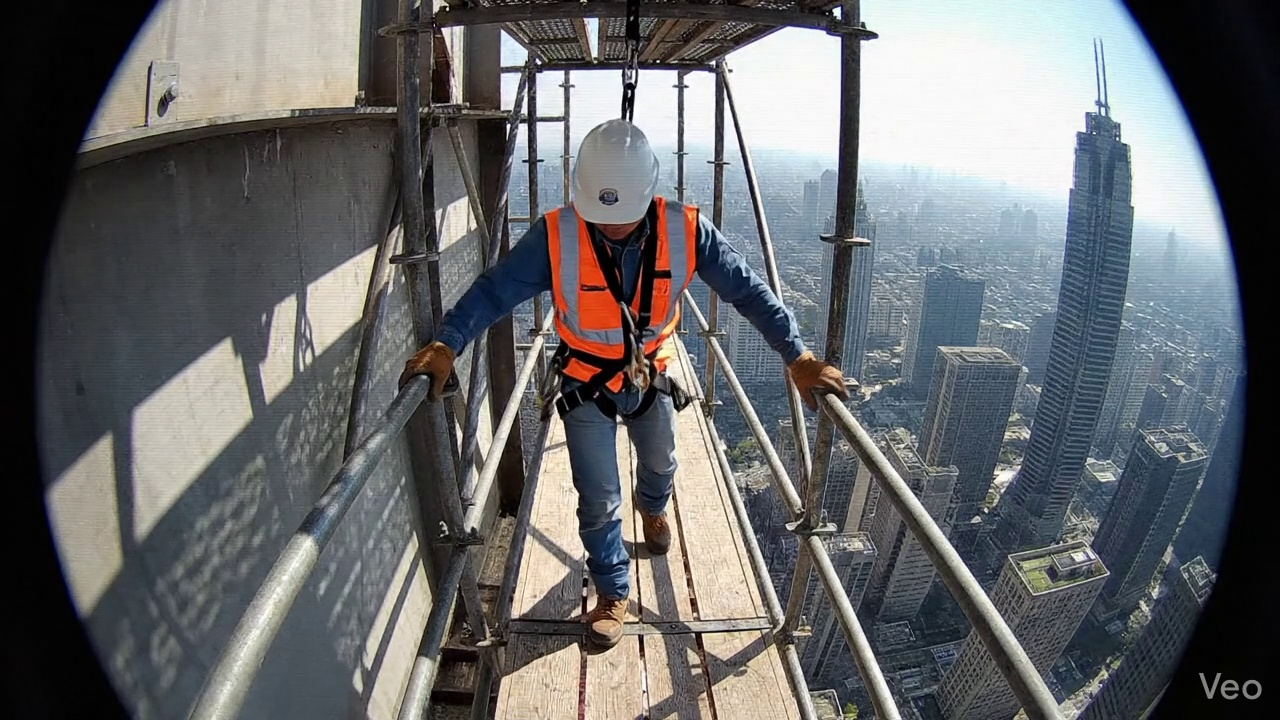person: (399, 119, 846, 646)
